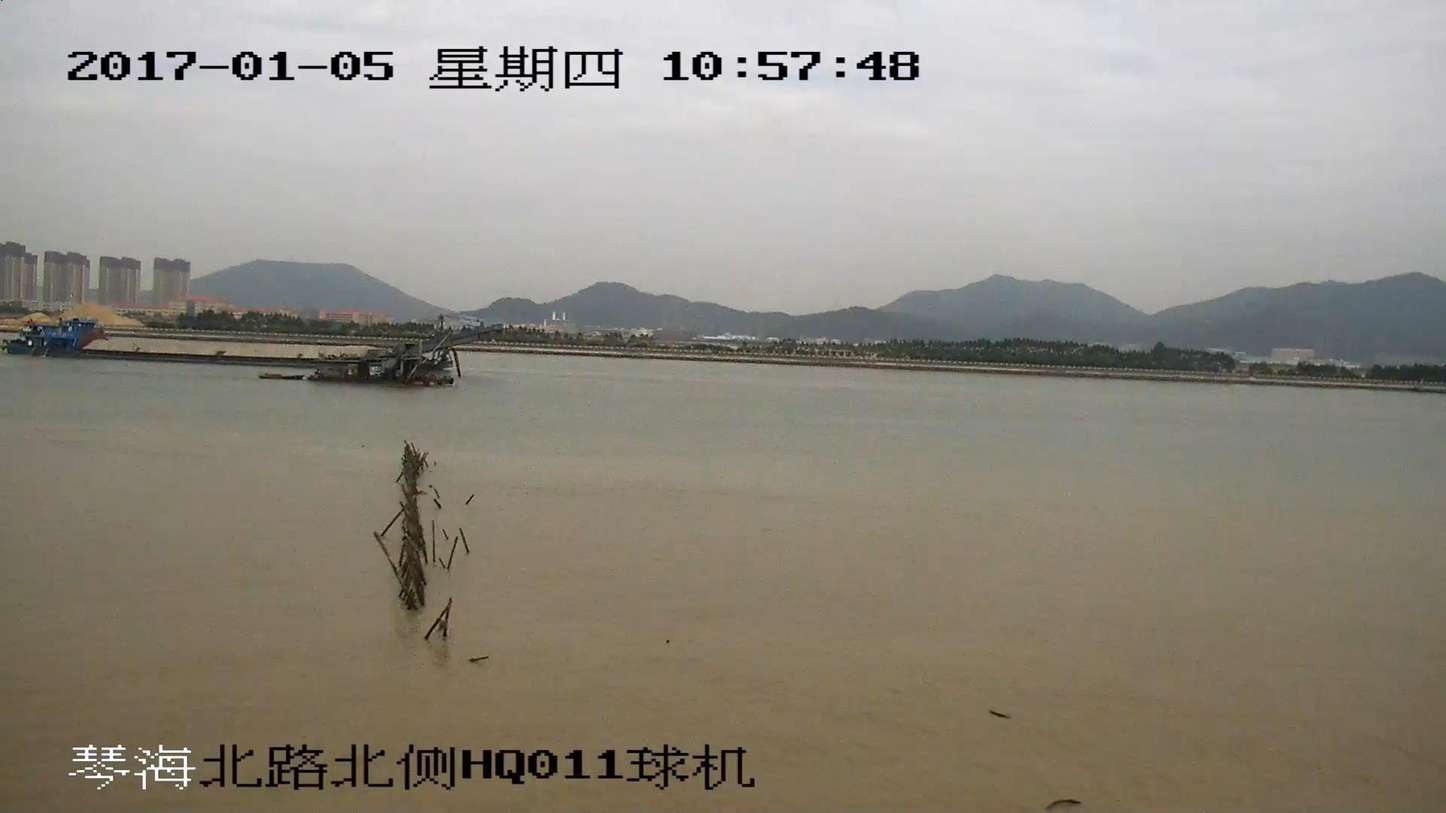ore carrier: (0, 315, 507, 380)
